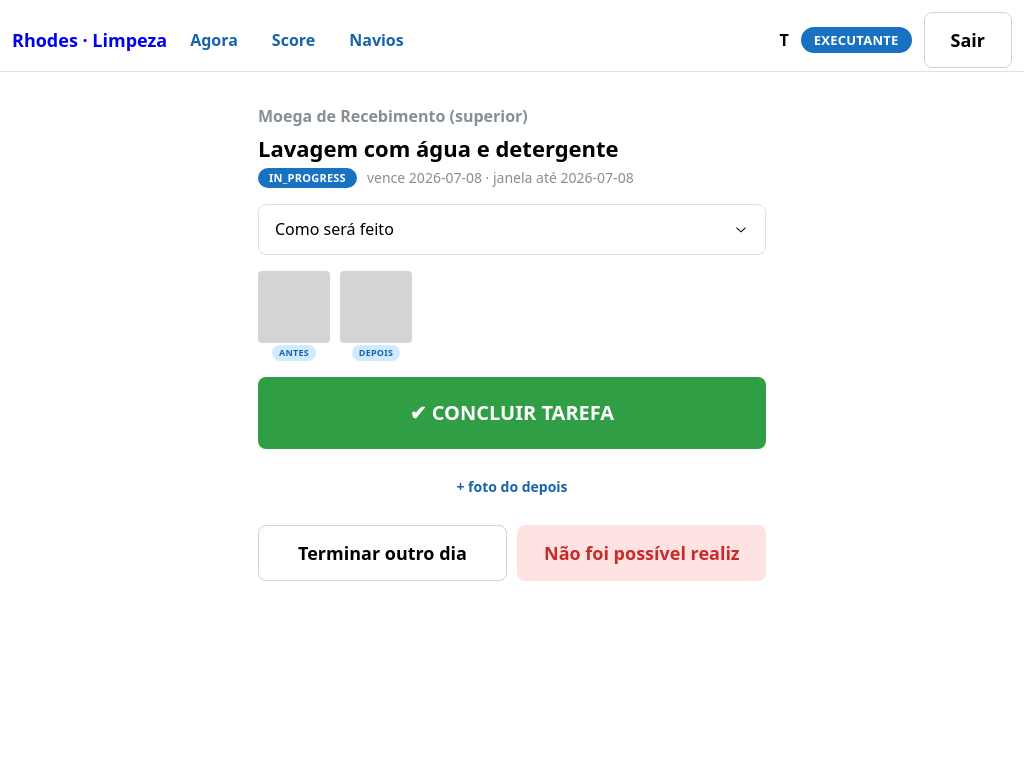
Test case: tela da tarefa (1 tarefa = 1 tela) › 409 do backend aparece como está (a UI é casca)
What coordinates should you click on to do the following:
click the button "✔ CONCLUIR TAREFA"
I would click on:
 (512, 413)
Its box is [258,377,766,449].
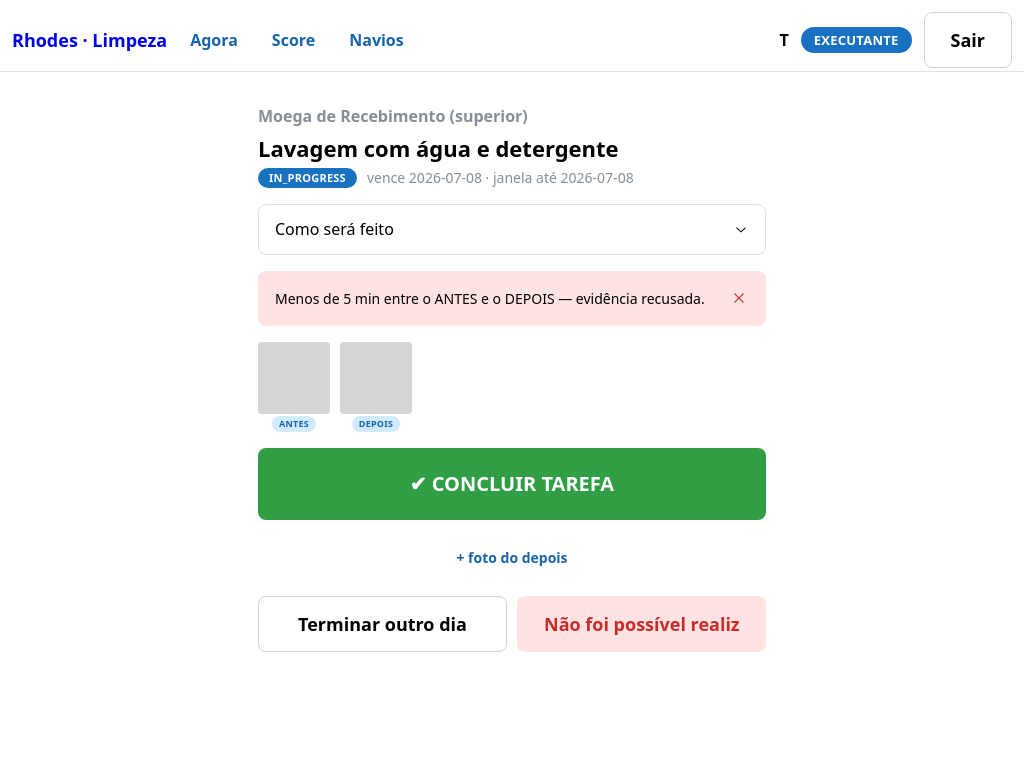
Now the text "Menos de 5 min" is shown, box [275,289,705,308]
